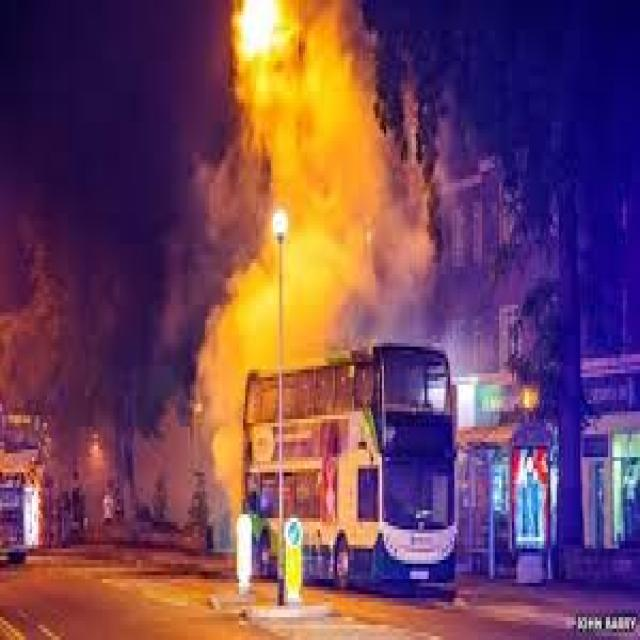Fire: (217, 2, 398, 146)
Smoke: (197, 145, 435, 563)
